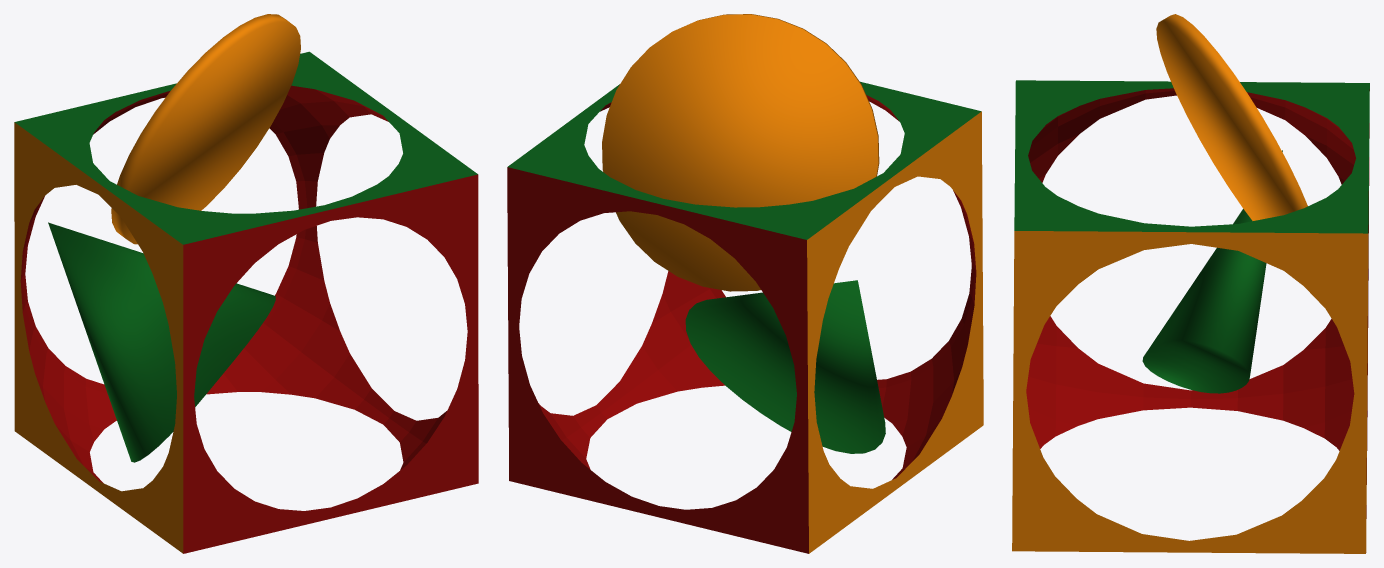
File: teste2.obj
3 views of the same model, side by side, from view 1: azimuth 30°, elevation 25°; view 2: azimuth 150°, elevation 25°; view 3: azimuth 270°, elevation 25° (orthographic). The views are drawn at different scales.
Parts seen in each view (by area): view 1: Circle_Circle_Material.005, Circle_Circle_Material.006, Circle_Circle_Material.007, Circle_Circle_Material.008, Circle_Circle_Material.009; view 2: Circle_Circle_Material.007, Circle_Circle_Material.005, Circle_Circle_Material.008, Circle_Circle_Material.006, Circle_Circle_Material.009; view 3: Circle_Circle_Material.008, Circle_Circle_Material.005, Circle_Circle_Material.009, Circle_Circle_Material.007, Circle_Circle_Material.006.
Part boxes in pixels (x1,y1,x2,y2): Circle_Circle_Material.005: [20, 85, 478, 553]; Circle_Circle_Material.006: [48, 222, 275, 462]; Circle_Circle_Material.007: [111, 14, 300, 244]; Circle_Circle_Material.008: [14, 122, 183, 553]; Circle_Circle_Material.009: [14, 51, 477, 244]; Circle_Circle_Material.007: [602, 14, 879, 291]; Circle_Circle_Material.005: [507, 95, 976, 553]; Circle_Circle_Material.008: [807, 111, 983, 553]; Circle_Circle_Material.006: [685, 280, 885, 453]; Circle_Circle_Material.009: [508, 81, 981, 239]; Circle_Circle_Material.008: [1012, 231, 1368, 553]; Circle_Circle_Material.005: [1026, 88, 1369, 552]; Circle_Circle_Material.009: [1014, 80, 1369, 233]; Circle_Circle_Material.007: [1156, 14, 1307, 220]; Circle_Circle_Material.006: [1142, 150, 1282, 393].
Size of the model in its own units: 16.44 by 22.5 by 16.17.
